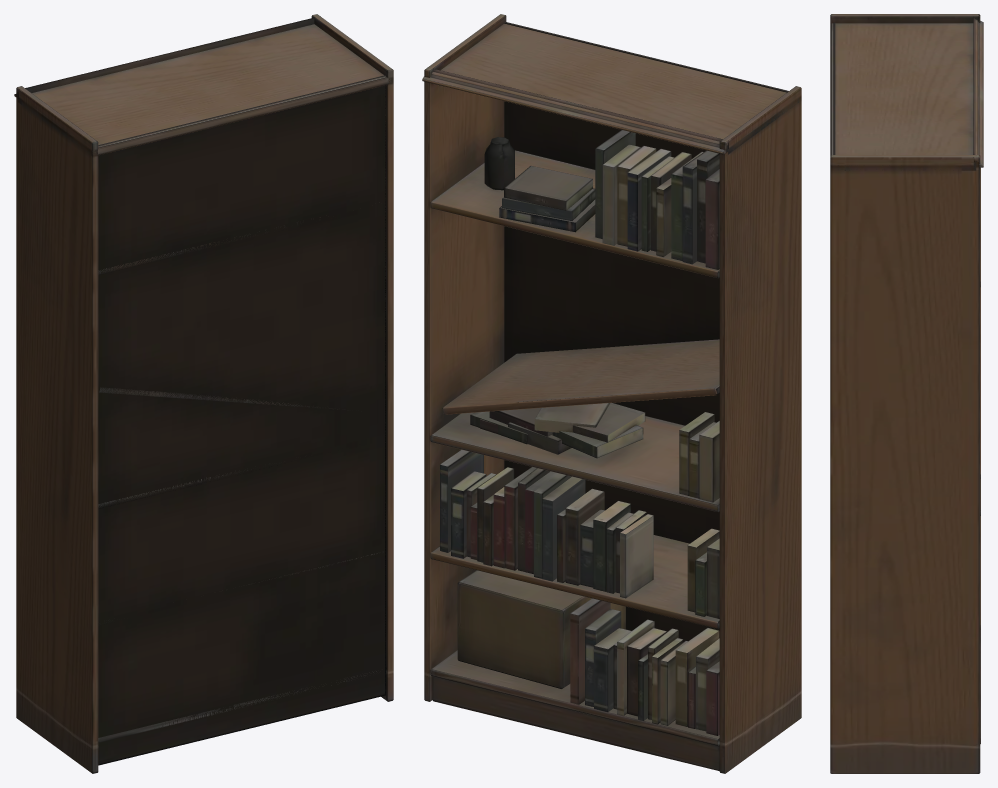
Rendered from furniture_shelf_module_b.glb.
The picture shows the model from 3 angles, left to right: view 1: azimuth 30°, elevation 25°; view 2: azimuth 150°, elevation 25°; view 3: azimuth 270°, elevation 25°; orthographic projection. The views are drawn at different scales.
Visible parts, largest first — view 1: furniture_shelf_module_b; view 2: furniture_shelf_module_b; view 3: furniture_shelf_module_b.
Boxes of the visible parts, x1,y1,x2,y2 form: furniture_shelf_module_b: (14, 14, 393, 773); furniture_shelf_module_b: (422, 14, 801, 773); furniture_shelf_module_b: (830, 14, 983, 773).
Size of the model in its own units: 1 by 2 by 0.45.
1 material, 1 textured.
